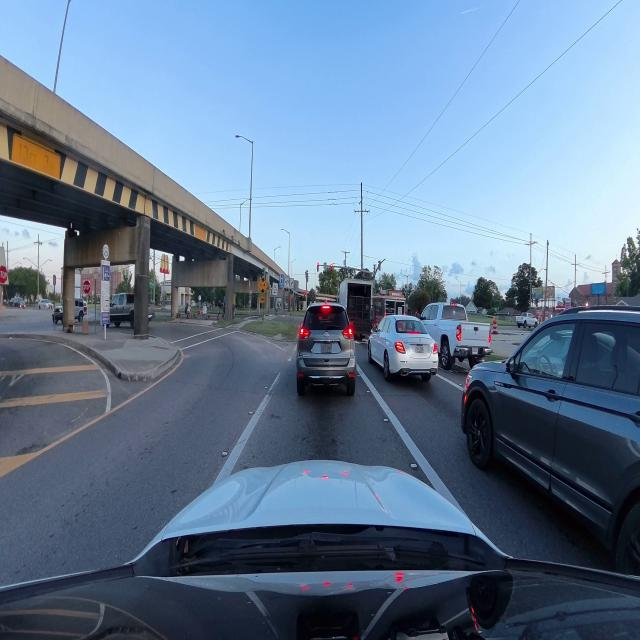car: (462, 308, 639, 573), (297, 303, 356, 395), (421, 303, 491, 370), (368, 315, 438, 380), (110, 292, 134, 327), (516, 312, 538, 328)
